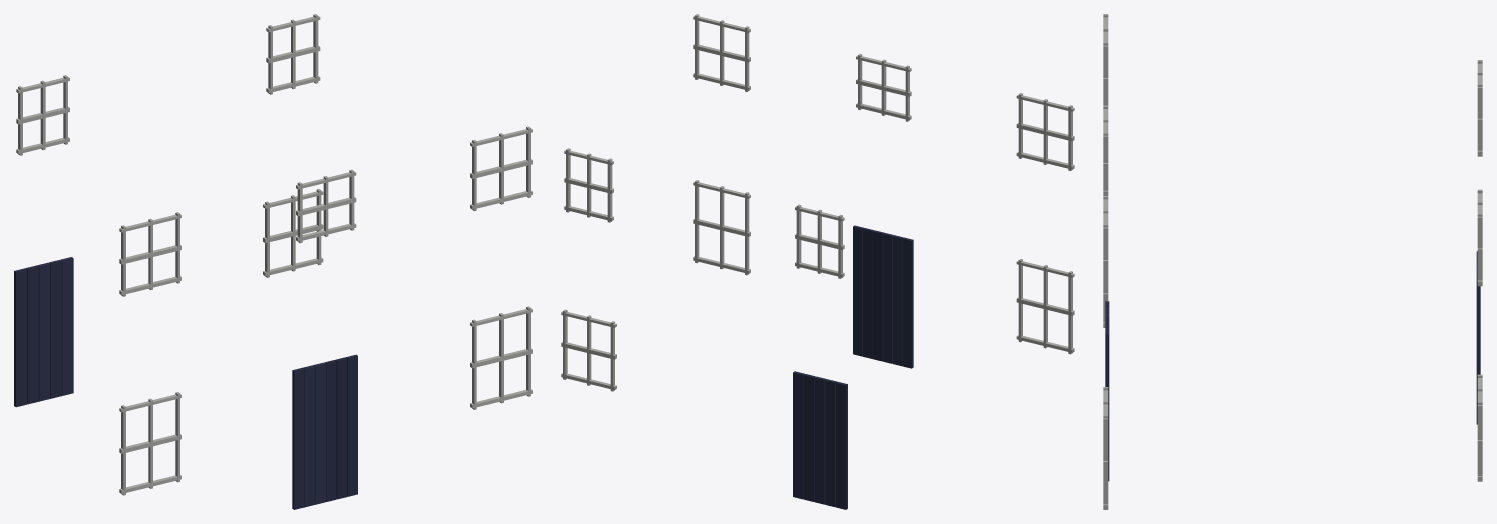
Rendered from SM_Bld_137_Wood.glb.
The picture shows the model from 3 angles, left to right: view 1: azimuth 30°, elevation 25°; view 2: azimuth 150°, elevation 25°; view 3: azimuth 270°, elevation 25°; orthographic projection. The views are drawn at different scales.
Visible parts, largest first — view 1: SM_Bld_137_Wood; view 2: SM_Bld_137_Wood; view 3: SM_Bld_137_Wood.
Part boxes in pixels (x1=…): SM_Bld_137_Wood: x1=14, y1=14, x2=532, y2=509; SM_Bld_137_Wood: x1=561, y1=14, x2=1074, y2=509; SM_Bld_137_Wood: x1=1103, y1=14, x2=1482, y2=509.
Bounding box in the file's own units: 6.38 × 4.81 × 4.79.
